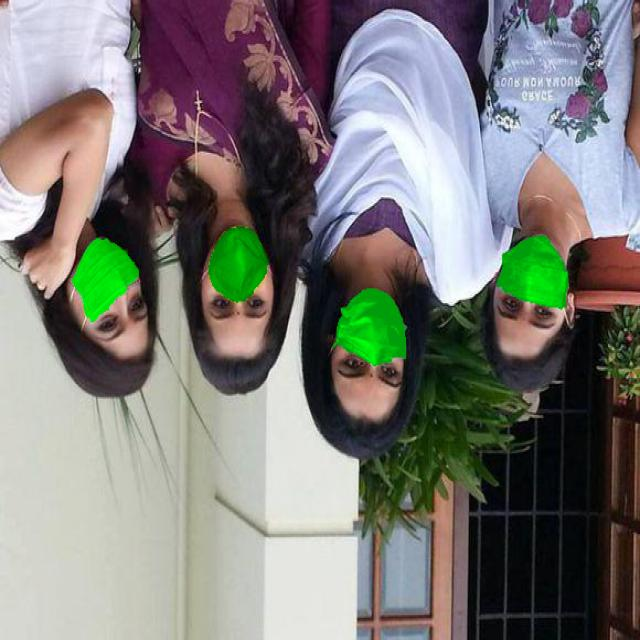mask: (68, 233, 141, 324), (331, 285, 408, 368), (495, 232, 570, 312), (206, 223, 272, 306)
